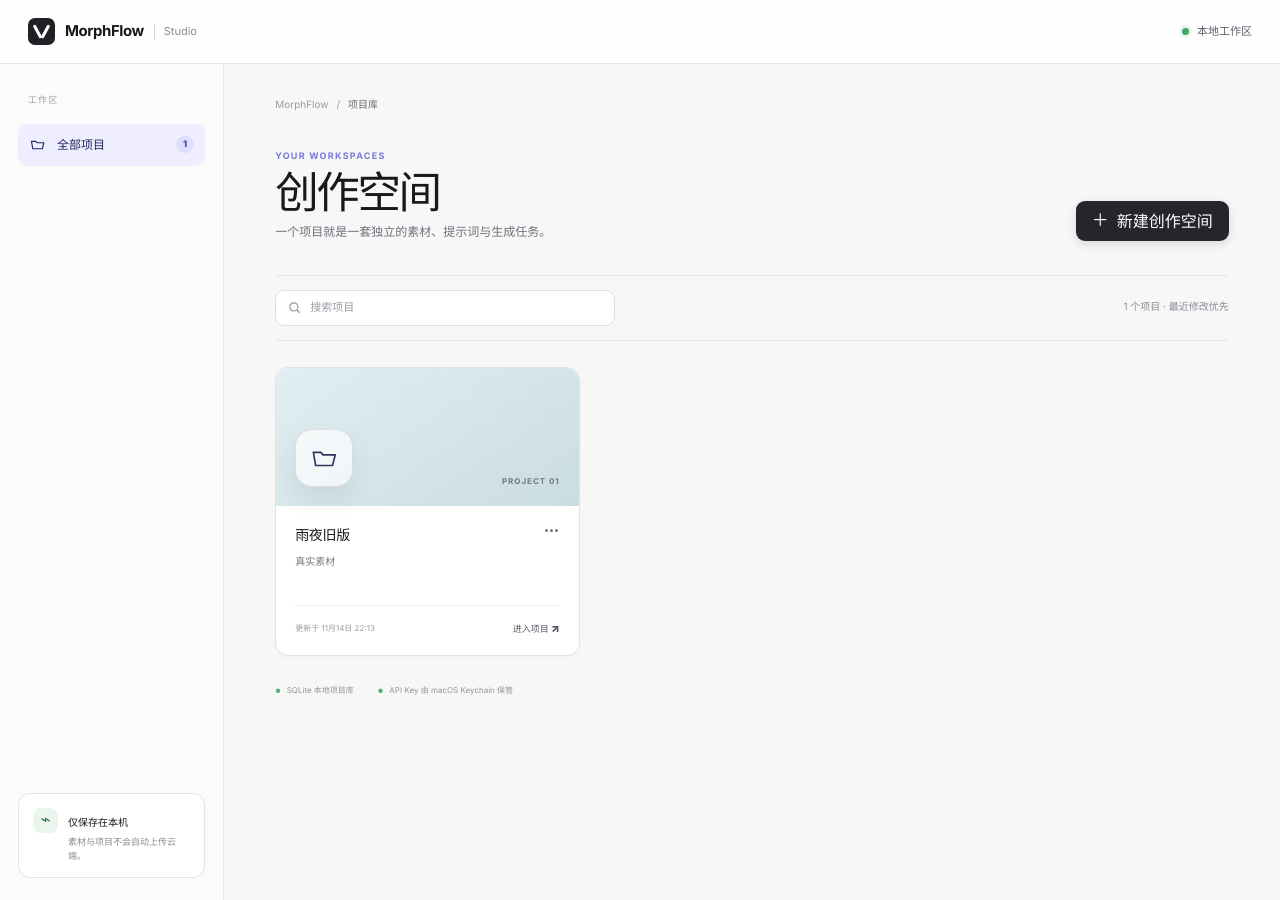
Test: ProjectLibrary › renames a project from its action menu
Click the button named "管理 雨夜旧版": [552, 530] box [537,516,567,544]
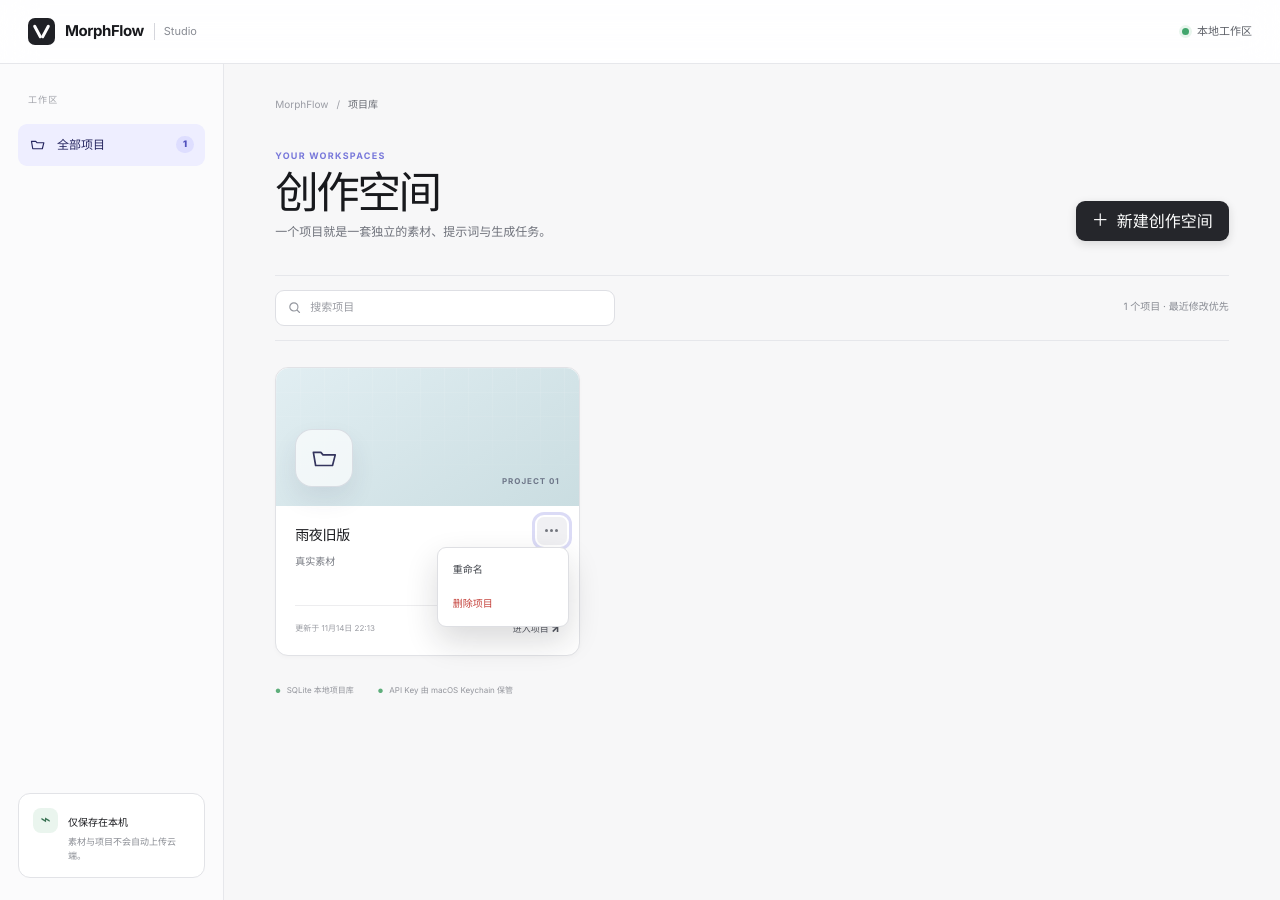
Click the button "重命名": [503, 570] box [443,552,563,586]
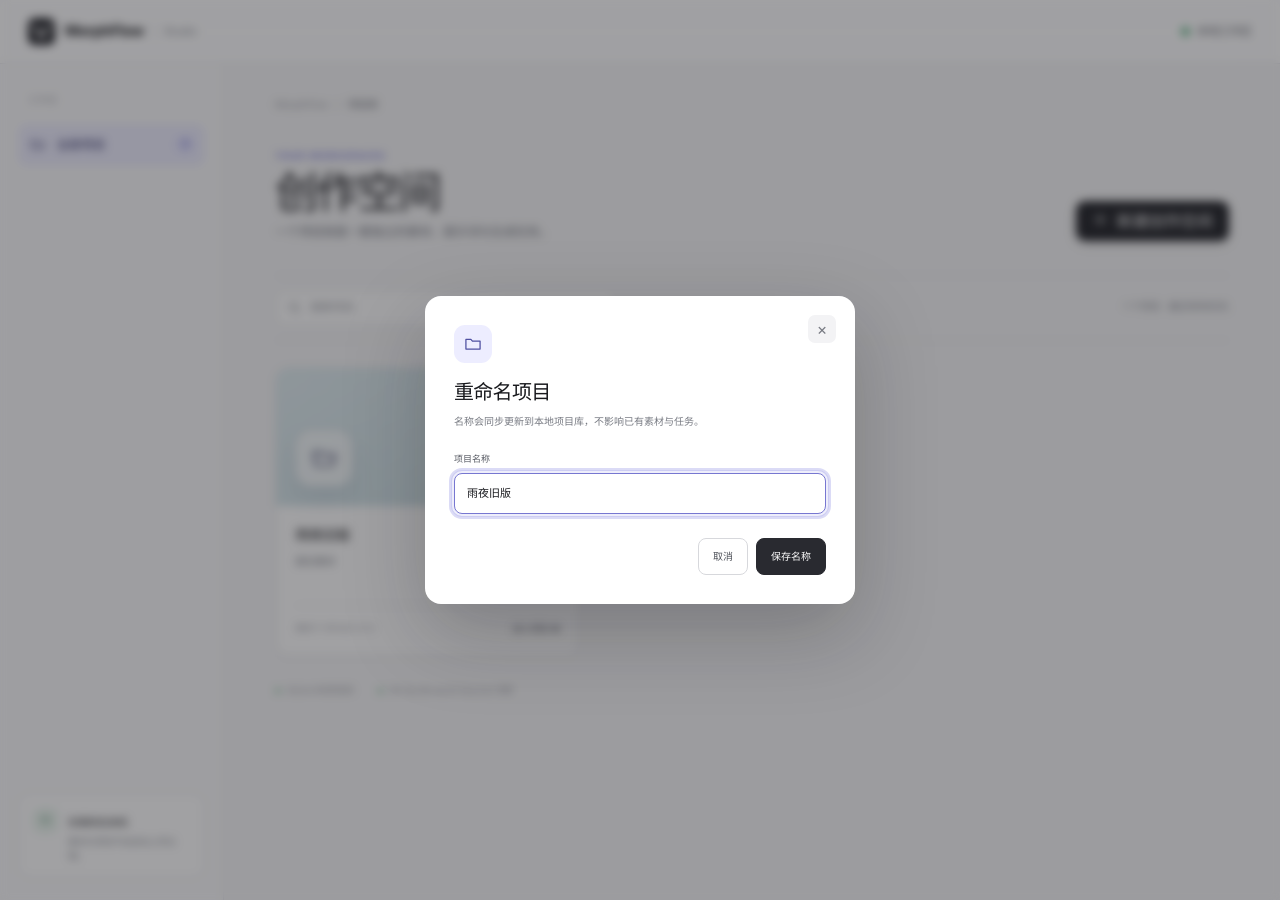
Replace the text in the field labelled "项目名称" with "雨夜新版": [640, 494] box [454,473,826,514]
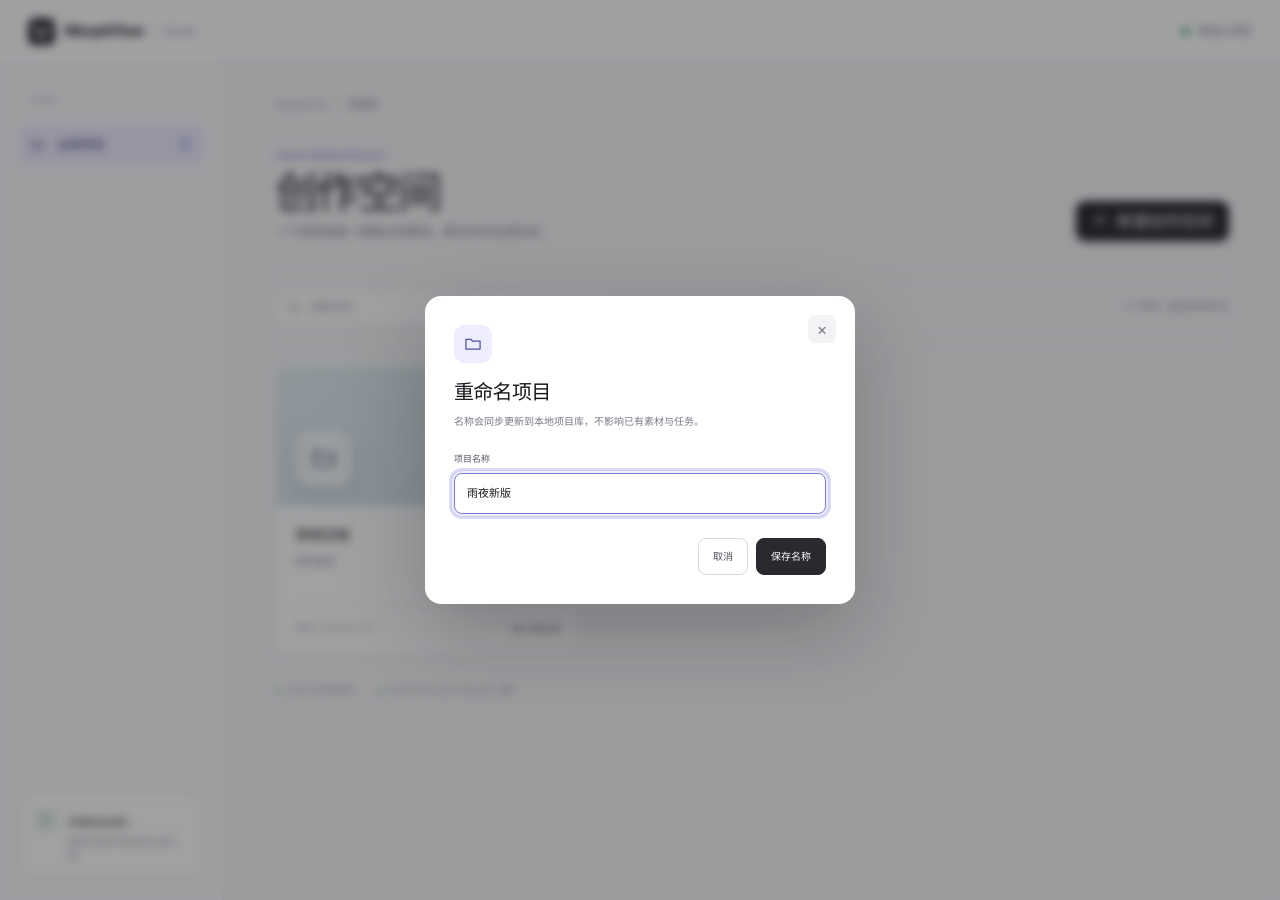
Click the button "保存名称": [791, 556] box [756,538,826,575]
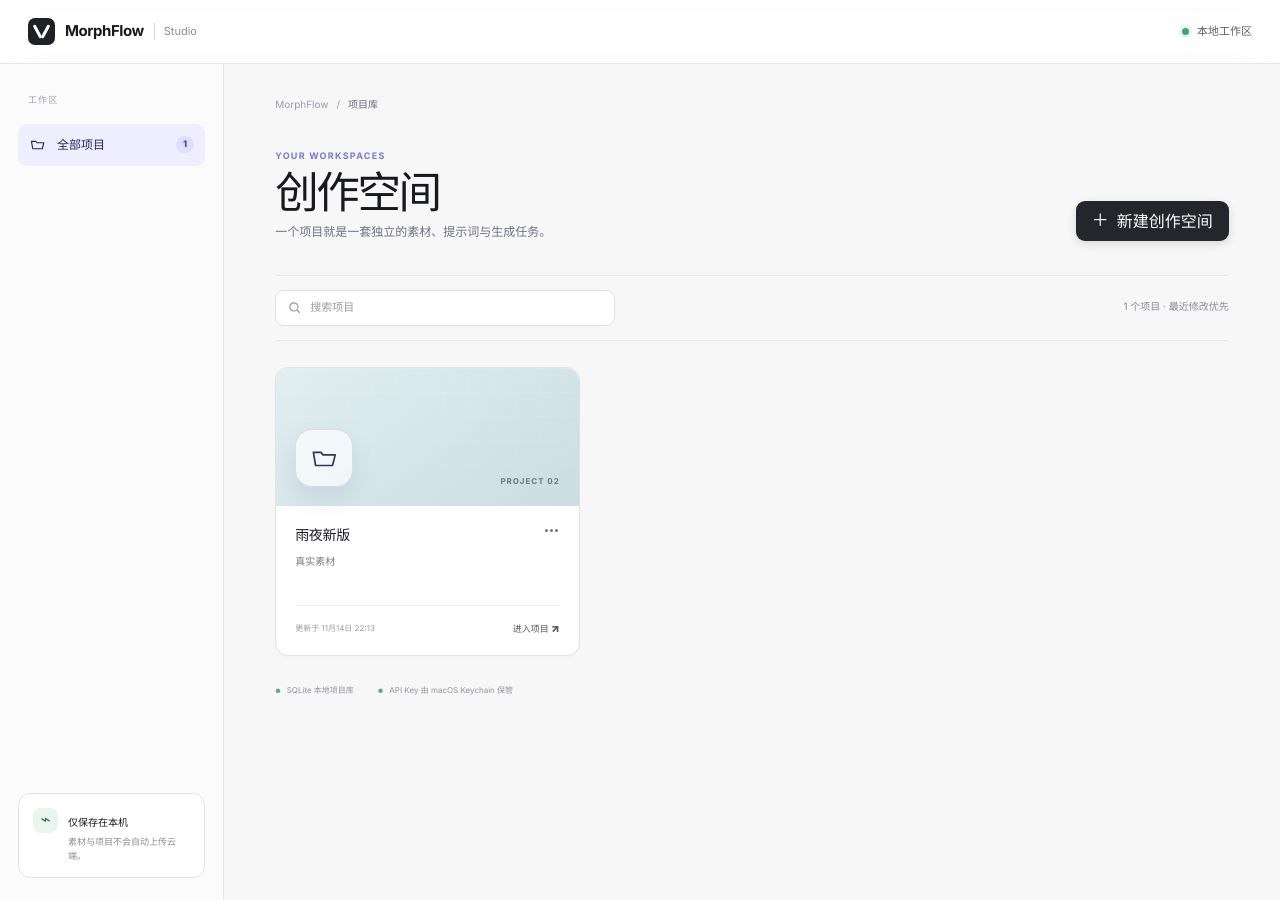
Expected: the heading "雨夜新版" is shown, [295,526,350,544]
